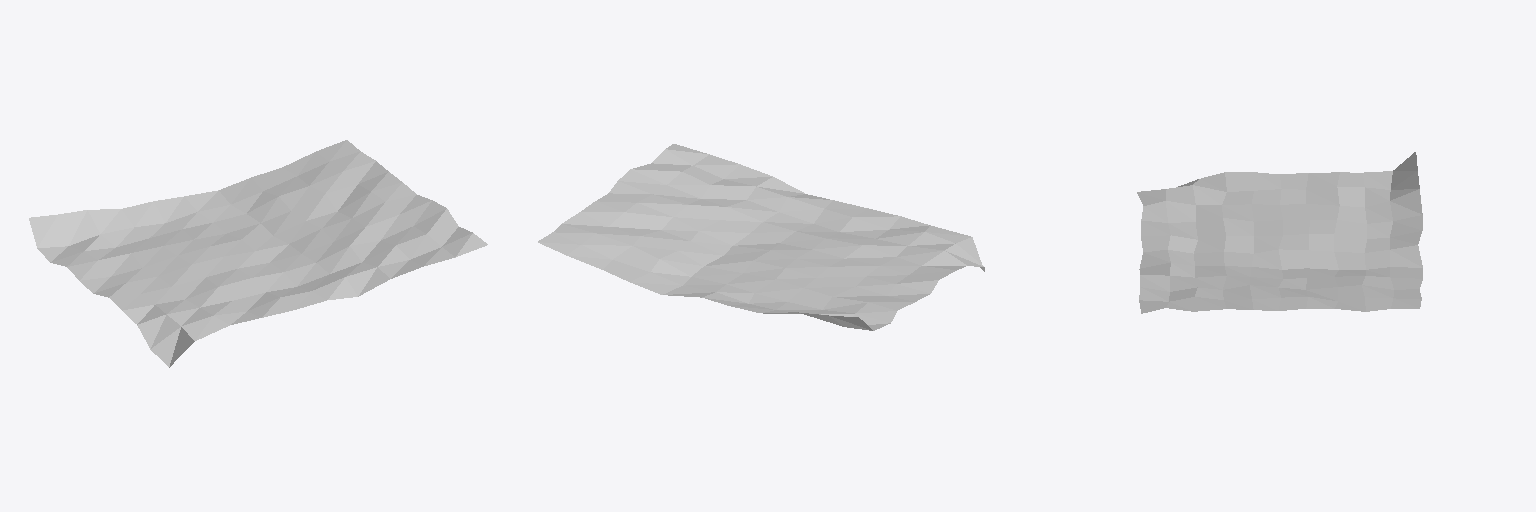
File: paper.obj
The picture shows the model from 3 angles: view 1: azimuth 30°, elevation 25°; view 2: azimuth 150°, elevation 25°; view 3: azimuth 270°, elevation 25°; orthographic projection.
Parts seen in each view (by area): view 1: pPlane2; view 2: pPlane2; view 3: pPlane2.
Part boxes in pixels (x1,y1,x2,y2): pPlane2: (29,140,487,367); pPlane2: (538,144,984,330); pPlane2: (1137,152,1422,313).
Size of the model in its own units: 1.35 by 0.2139 by 1.02.